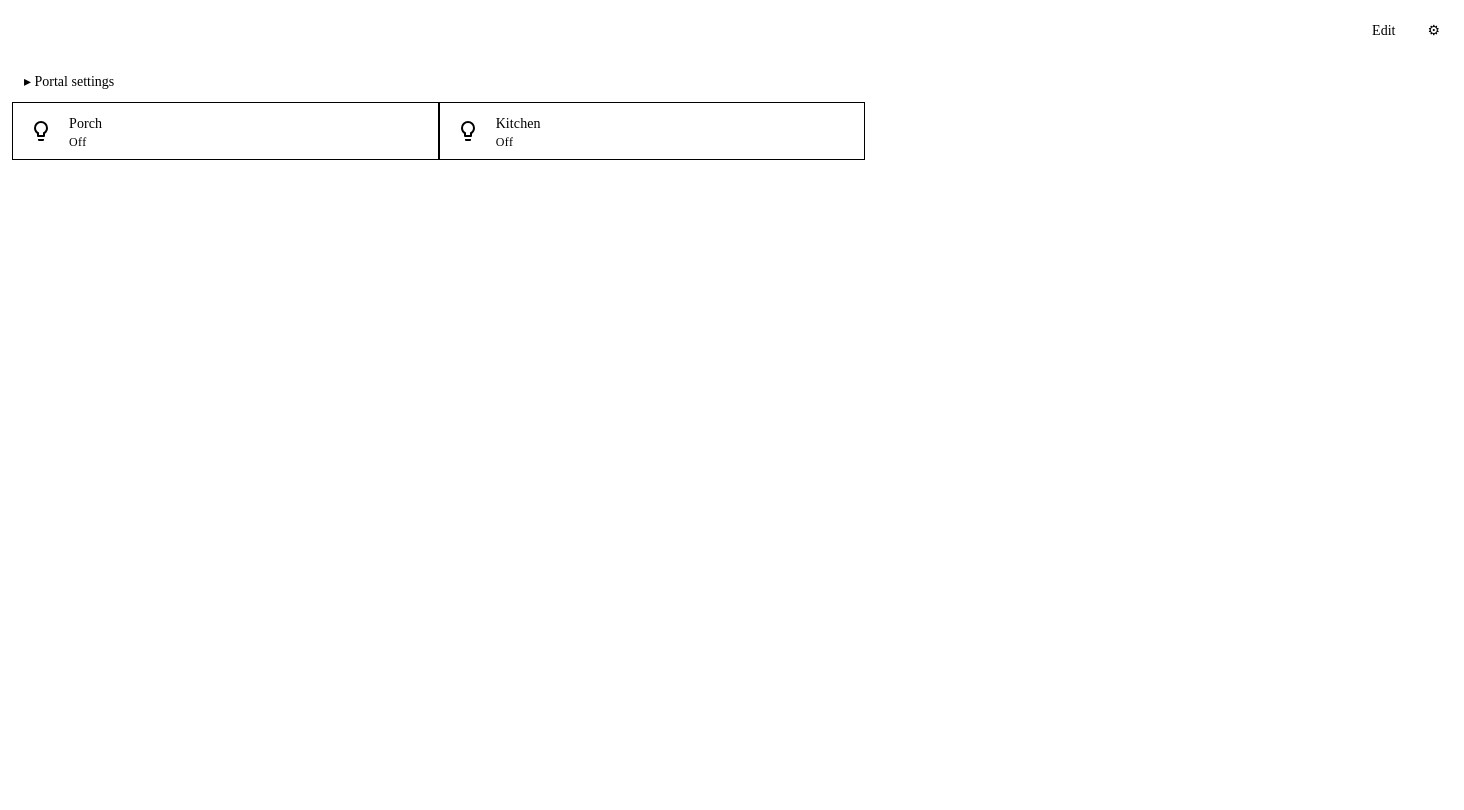
Test case: Portal page › Edit mode › announces itself while it is on
Click the button "Edit".
click(1384, 30)  # box [1360,12,1407,49]
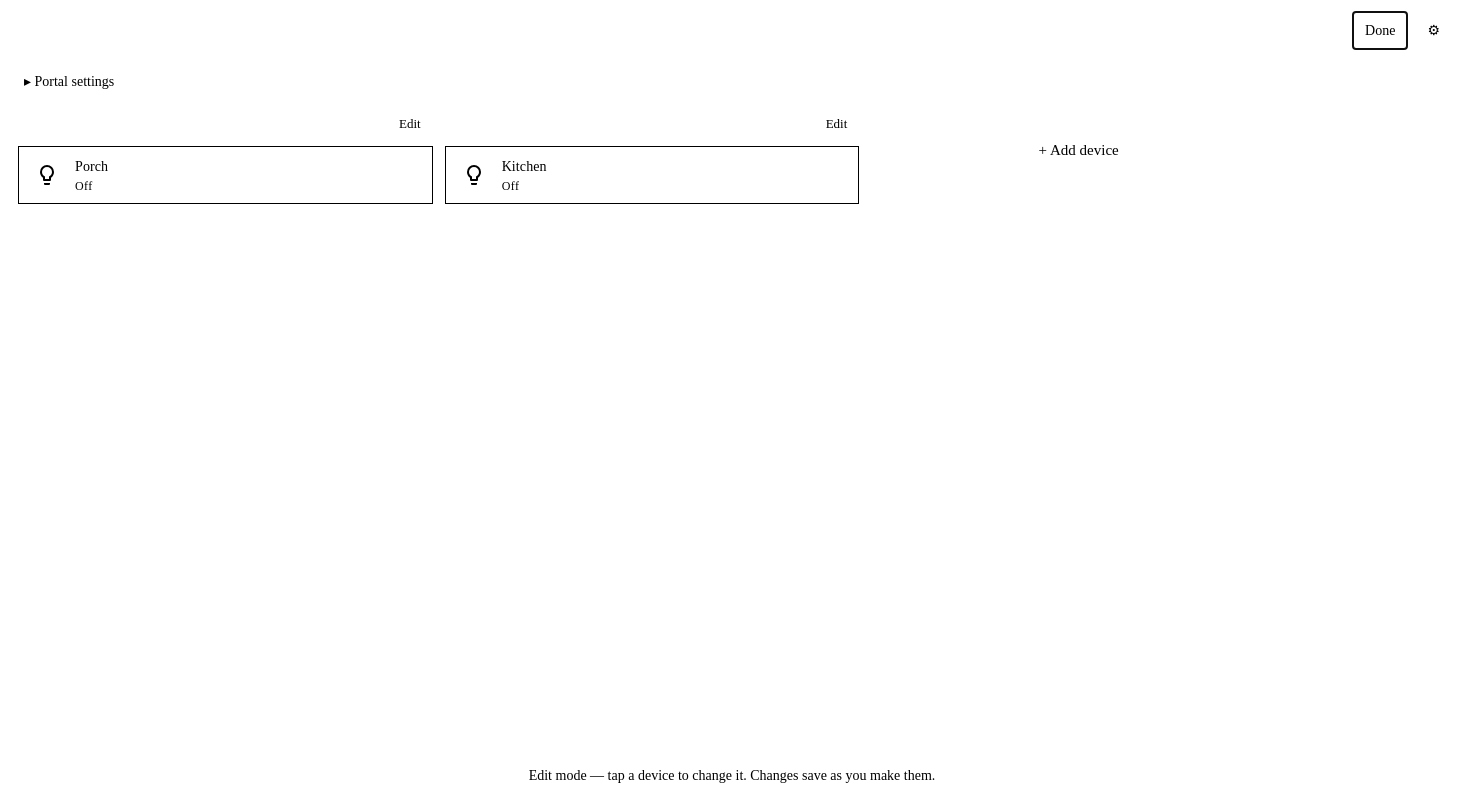
Now the button "Done" is shown
Now the message shows "Edit mode", box [529,768,935,783]
Click the button "Done".
click(1380, 30)  # box [1353,12,1407,49]
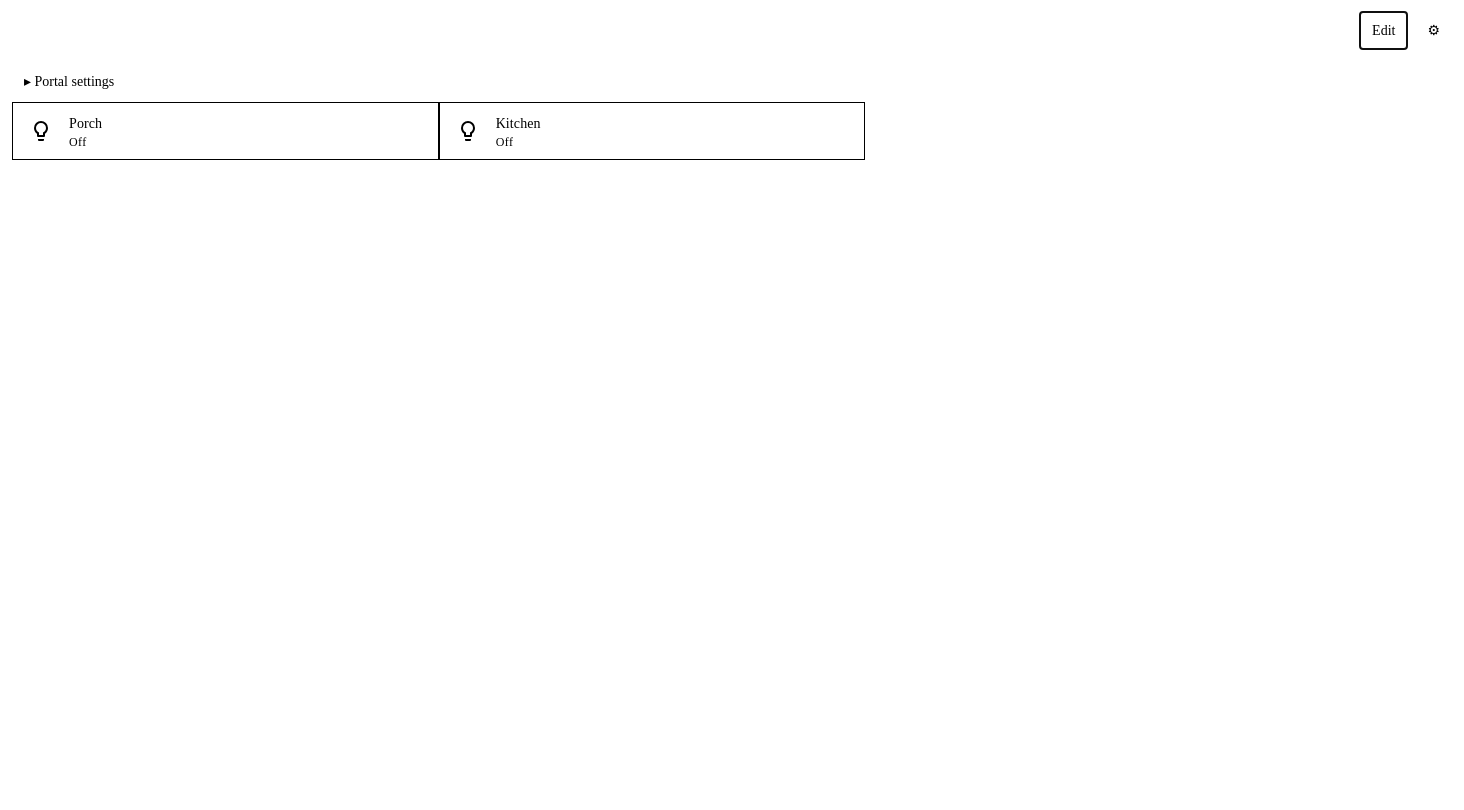
Now the message "Edit mode — tap a device to change it. Changes save as you make them." is gone
